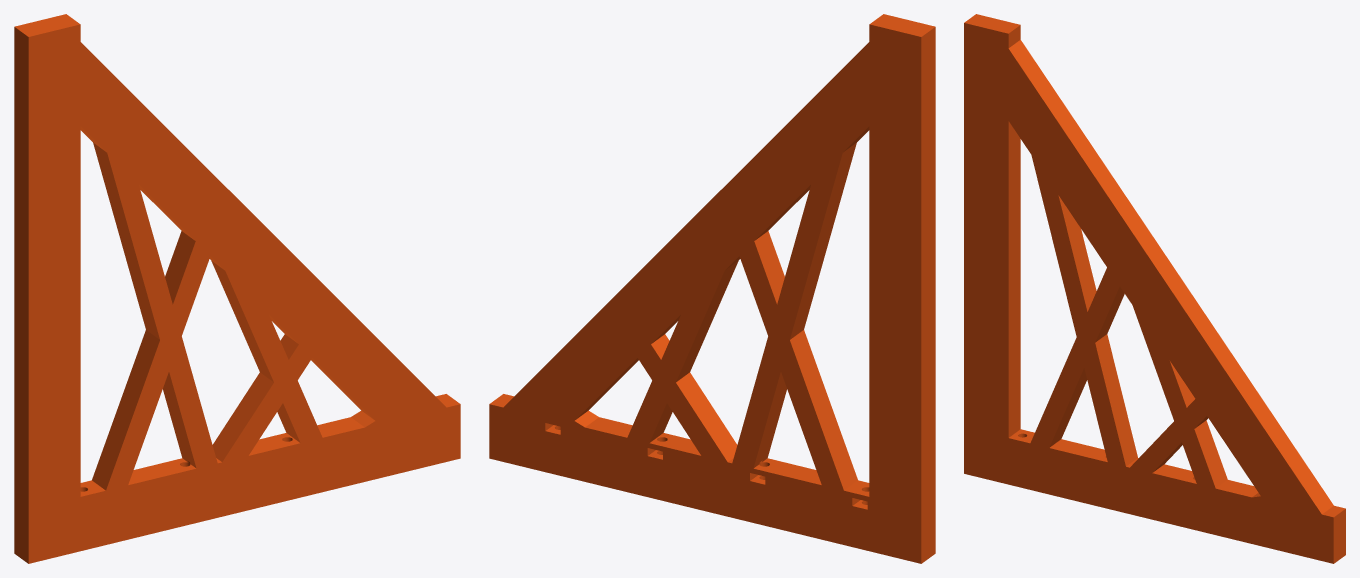
The model's file is .right_front_bracket.step.glb.
3 renders of one model, left to right at view 1: azimuth 30°, elevation 25°; view 2: azimuth 150°, elevation 25°; view 3: azimuth 330°, elevation 25°, orthographic. The views are drawn at different scales.
Visible parts, largest first — view 1: o1; view 2: o1; view 3: o1.
Part boxes in pixels (box(x1,y1,x2,y2)): o1: box(14, 14, 460, 563); o1: box(489, 14, 935, 563); o1: box(964, 14, 1345, 563).
Bounding box in the file's own units: 0.2111 × 0.246 × 0.012.
